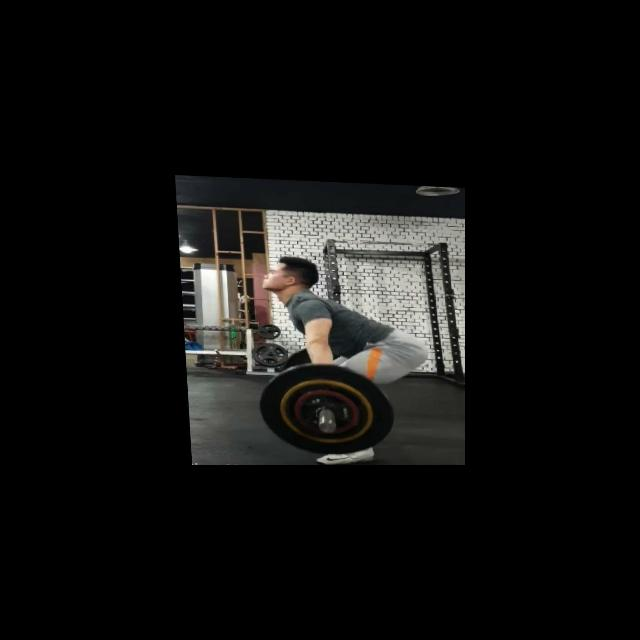barbell: (252, 358, 397, 456)
